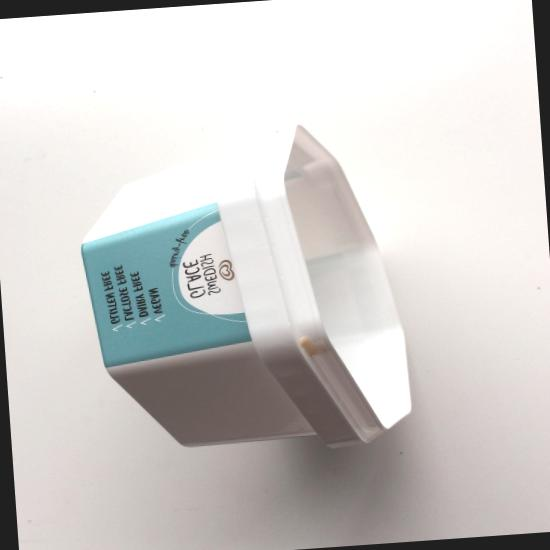Spread tub: (81, 120, 410, 448)
